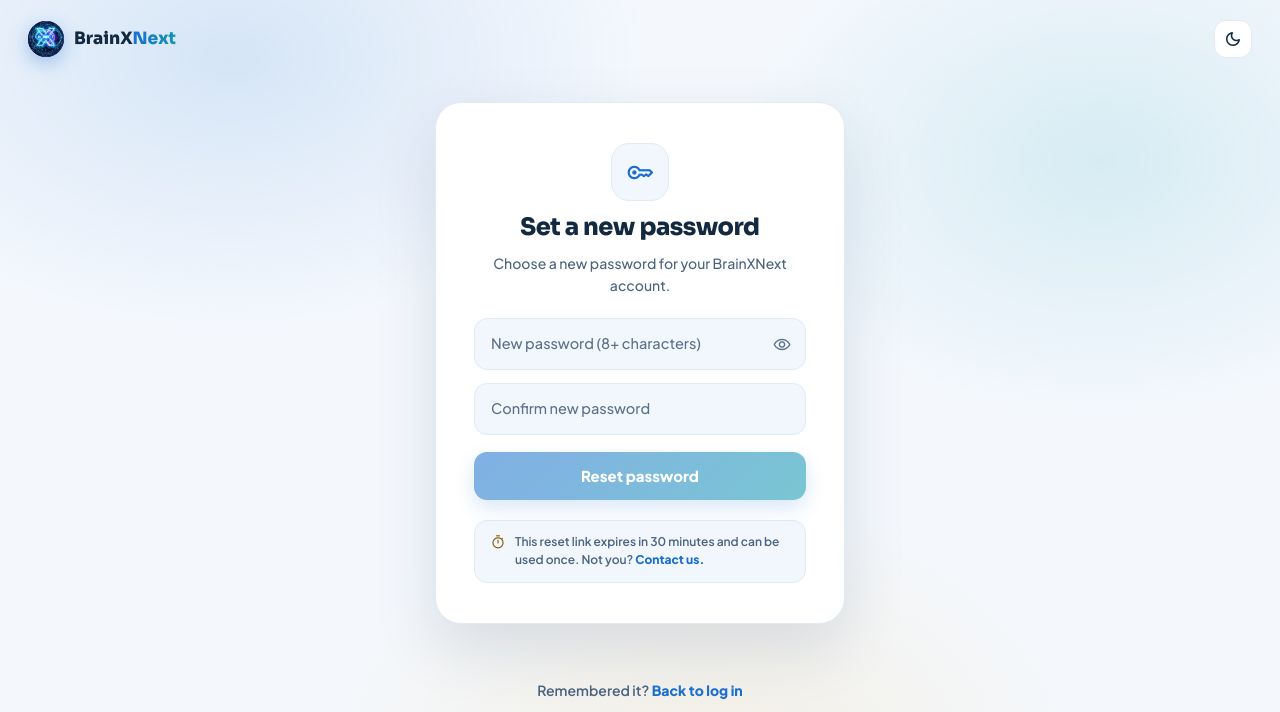
Test: <ResetPassword /> › resets the password with a valid token
In the password field labelled "New password": {"x": 640, "y": 344} [474, 318, 806, 370], type "newpassword1"
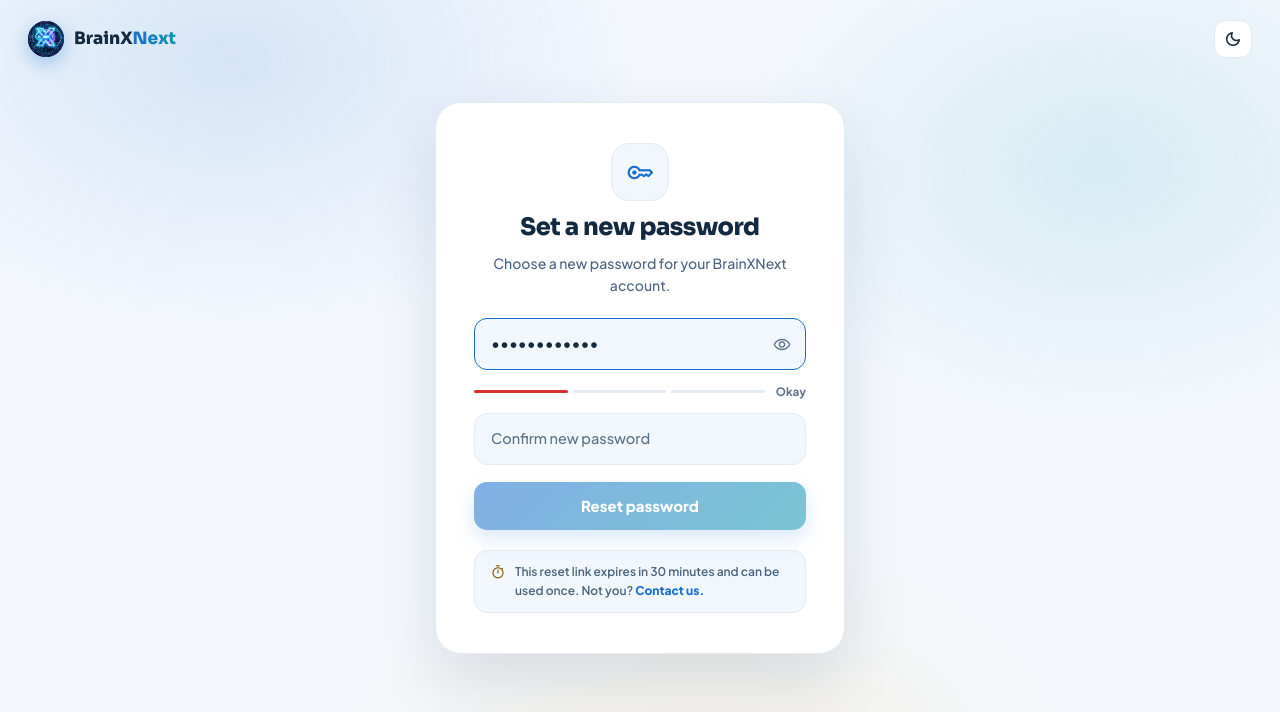
In the password field labelled "Confirm new password": {"x": 640, "y": 439} [474, 413, 806, 465], type "newpassword1"
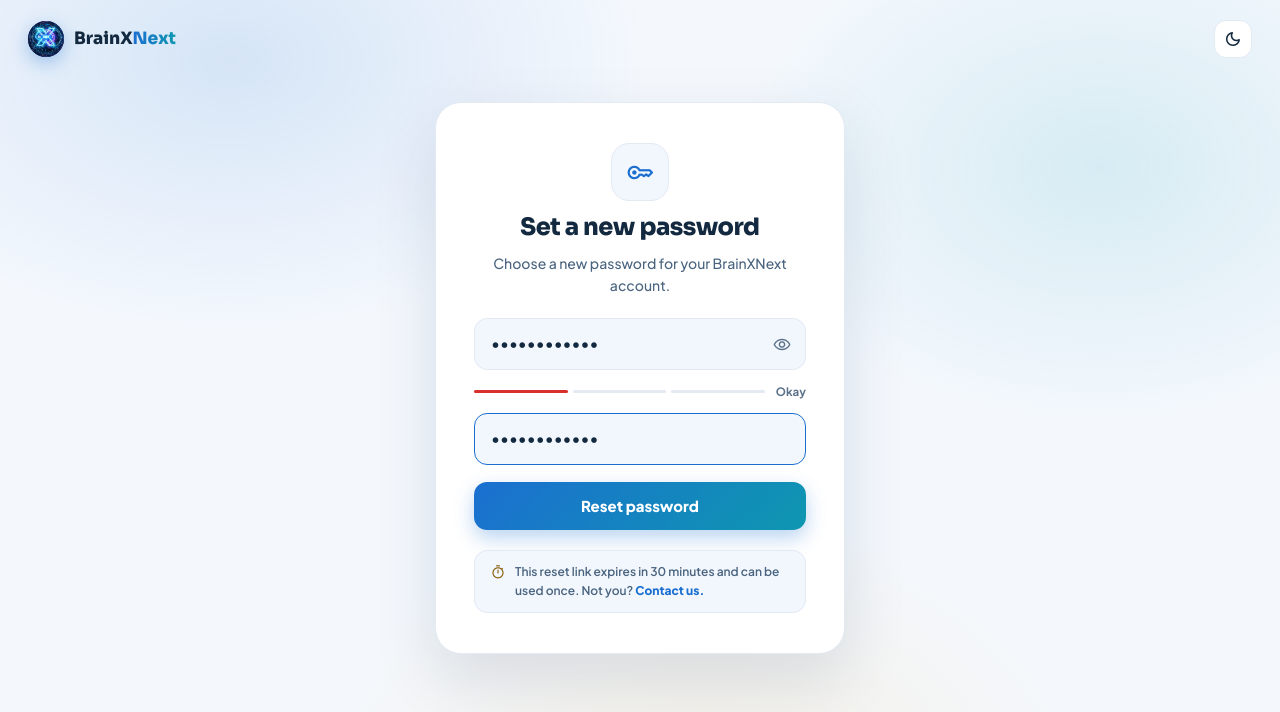
Click the button "Reset password": {"x": 640, "y": 506} [474, 482, 806, 530]
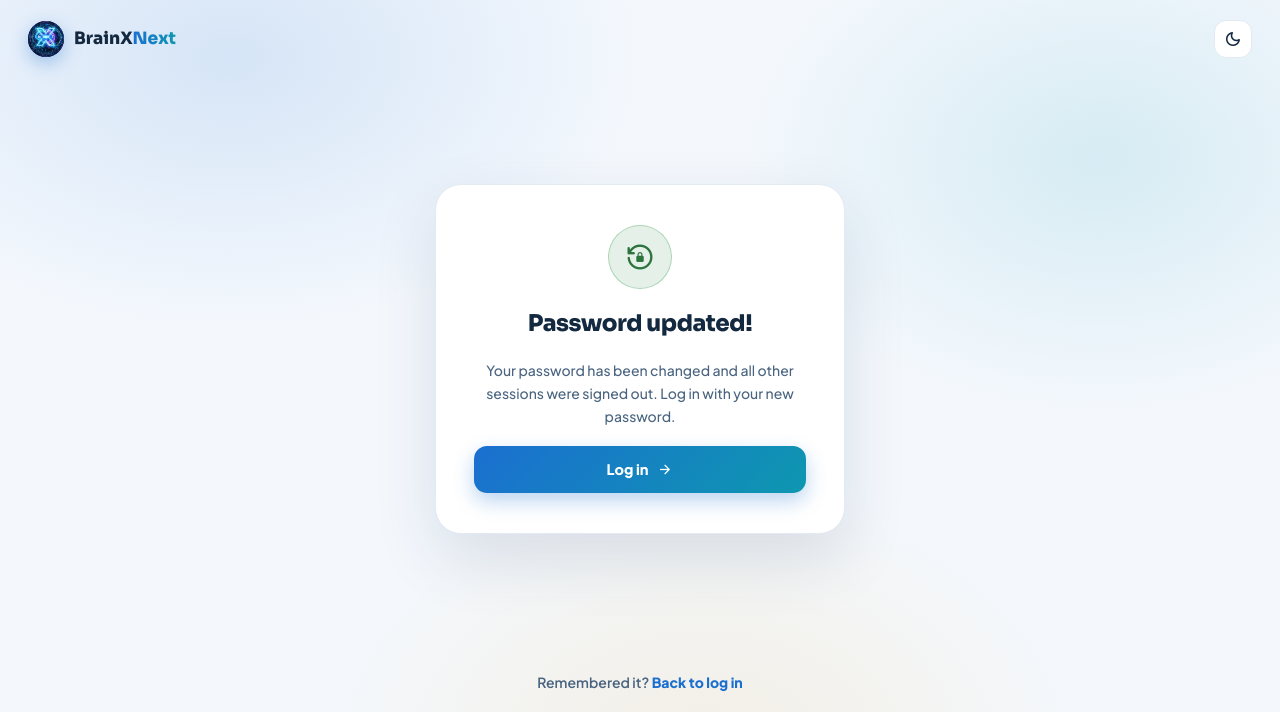
Expected: the heading "Password updated!" is shown, [528, 307, 752, 341]
